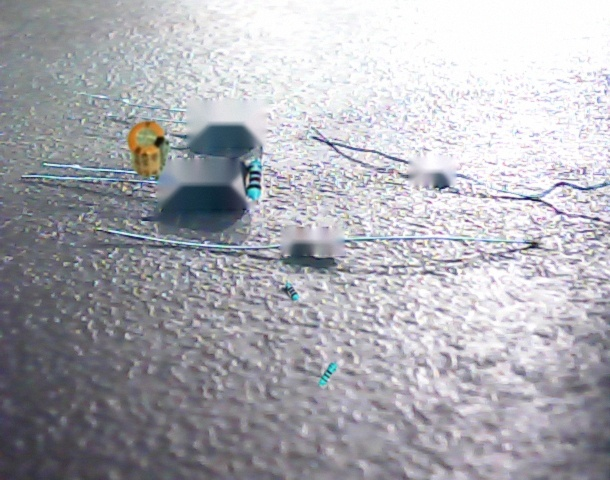capacitor: (127, 120, 170, 181)
resistor: (240, 158, 268, 201), (317, 361, 339, 389), (281, 281, 302, 302)
